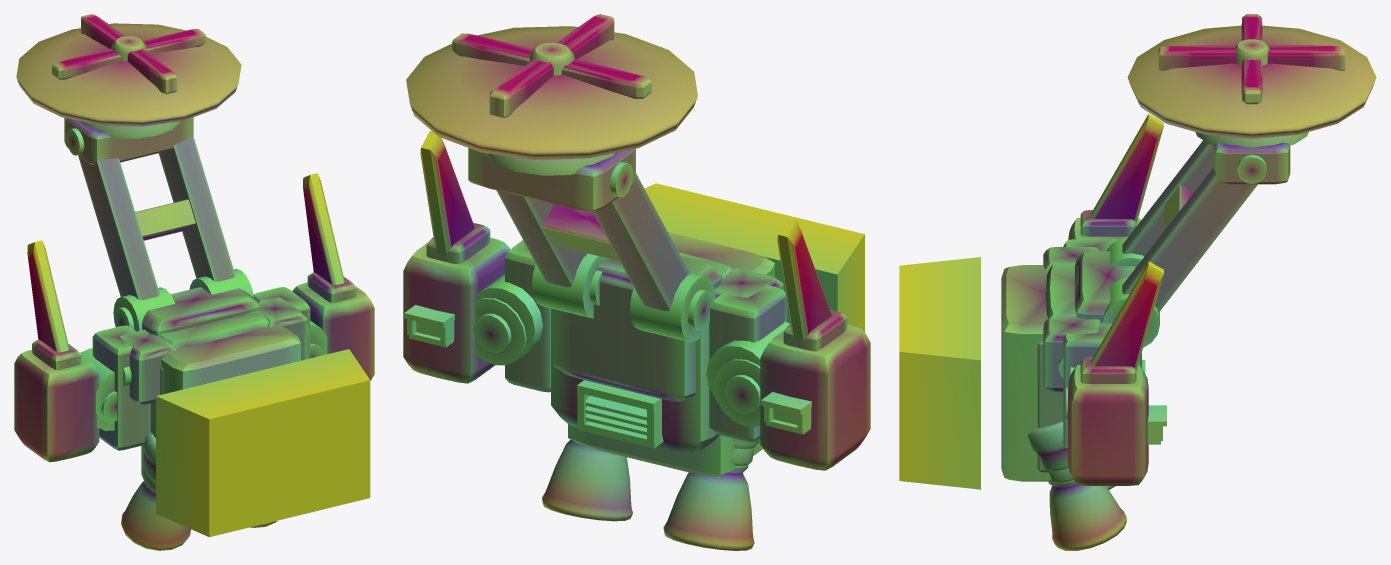
The model's file is llm_gen_dorsal_pack_117_edd9b9.glb.
The picture shows the model from 3 angles, left to right: view 1: azimuth 30°, elevation 25°; view 2: azimuth 150°, elevation 25°; view 3: azimuth 270°, elevation 25°; orthographic projection. The views are drawn at different scales.
Visible parts, largest first — view 1: mounting_dovetail_plug, awacs_dish_11_wing_white, ew_sensor_pod_18_cobalt_anodized_l, adapter_dorsal_spine_dark, radome_truss_side_5_adapter_dark_l, radome_truss_side_5_adapter_dark_r, ew_sensor_pod_18_cobalt_anodized_r, adapter_dorsal_outrigger_dark_l, radome_spine_bridge_2_adapter_dark, adapter_sub_radome_yoke_dark_7_adapter_dark, stabilizer_vernier_22_vernier_bell_vernier_l, ew_comms_blade_21_gold_l (+16 smaller); view 2: awacs_dish_11_wing_white, radome_spine_bridge_2_adapter_dark, ew_sensor_pod_18_cobalt_anodized_l, mounting_dovetail_plug, ew_sensor_pod_18_cobalt_anodized_r, radome_truss_side_5_adapter_dark_l, stabilizer_vernier_22_vernier_bell_vernier_l, stabilizer_vernier_22_vernier_bell_vernier_r, adapter_dorsal_spine_dark, adapter_sub_radome_yoke_dark_7_adapter_dark, awacs_center_core_0_cobalt_anodized, adapter_dorsal_outrigger_dark_l (+26 smaller); view 3: mounting_dovetail_plug, awacs_dish_11_wing_white, adapter_dorsal_spine_dark, ew_sensor_pod_18_cobalt_anodized_r, radome_truss_side_5_adapter_dark_r, stabilizer_vernier_22_vernier_bell_vernier_r, ew_comms_blade_21_gold_r, ew_comms_blade_21_gold_l, awacs_dish_rib_z_13_gold, radome_truss_side_5_adapter_dark_l, radome_spine_bridge_2_adapter_dark, adapter_sub_radome_yoke_dark_7_adapter_dark (+16 smaller).
Boxes of the visible parts, box(x1,y1,x2,y2) form: mounting_dovetail_plug: box(156, 349, 370, 537); awacs_dish_11_wing_white: box(16, 23, 241, 126); ew_sensor_pod_18_cobalt_anodized_l: box(14, 349, 99, 462); adapter_dorsal_spine_dark: box(141, 325, 300, 475); radome_truss_side_5_adapter_dark_l: box(78, 156, 159, 300); radome_truss_side_5_adapter_dark_r: box(158, 137, 235, 281); ew_sensor_pod_18_cobalt_anodized_r: box(292, 282, 374, 380); adapter_dorsal_outrigger_dark_l: box(92, 325, 150, 450); radome_spine_bridge_2_adapter_dark: box(142, 287, 259, 335); adapter_sub_radome_yoke_dark_7_adapter_dark: box(64, 117, 193, 164); stabilizer_vernier_22_vernier_bell_vernier_l: box(121, 481, 190, 550); ew_comms_blade_21_gold_l: box(27, 240, 69, 352); awacs_dish_11_wing_white: box(406, 26, 697, 159); radome_spine_bridge_2_adapter_dark: box(552, 256, 721, 401); ew_sensor_pod_18_cobalt_anodized_l: box(760, 324, 870, 470); mounting_dovetail_plug: box(644, 183, 864, 332); ew_sensor_pod_18_cobalt_anodized_r: box(403, 237, 510, 383); radome_truss_side_5_adapter_dark_l: box(593, 173, 689, 311); stabilizer_vernier_22_vernier_bell_vernier_l: box(663, 464, 754, 550); stabilizer_vernier_22_vernier_bell_vernier_r: box(542, 439, 632, 521); adapter_dorsal_spine_dark: box(568, 232, 774, 476); adapter_sub_radome_yoke_dark_7_adapter_dark: box(468, 148, 635, 212); awacs_center_core_0_cobalt_anodized: box(551, 252, 732, 454); adapter_dorsal_outrigger_dark_l: box(709, 285, 787, 442); mounting_dovetail_plug: box(899, 257, 980, 489); awacs_dish_11_wing_white: box(1127, 25, 1376, 138); adapter_dorsal_spine_dark: box(1001, 265, 1051, 481); ew_sensor_pod_18_cobalt_anodized_r: box(1068, 365, 1148, 485); radome_truss_side_5_adapter_dark_r: box(1122, 167, 1257, 312); stabilizer_vernier_22_vernier_bell_vernier_r: box(1048, 479, 1126, 550); ew_comms_blade_21_gold_r: box(1091, 261, 1163, 371); ew_comms_blade_21_gold_l: box(1091, 114, 1163, 223); awacs_dish_rib_z_13_gold: box(1158, 45, 1345, 70); radome_truss_side_5_adapter_dark_l: box(1122, 140, 1213, 256); radome_spine_bridge_2_adapter_dark: box(1075, 251, 1141, 367); adapter_sub_radome_yoke_dark_7_adapter_dark: box(1213, 142, 1290, 184).
Bounding box in the file's own units: 41.06 × 51.16 × 46.83.
